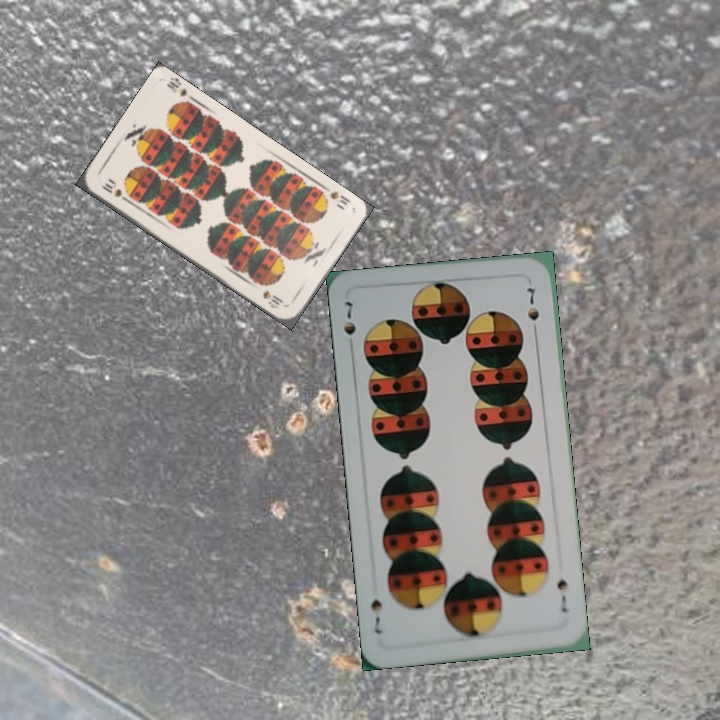S10: (97, 179, 131, 205), (326, 187, 353, 208)
S7: (339, 297, 359, 354), (552, 575, 570, 615)
